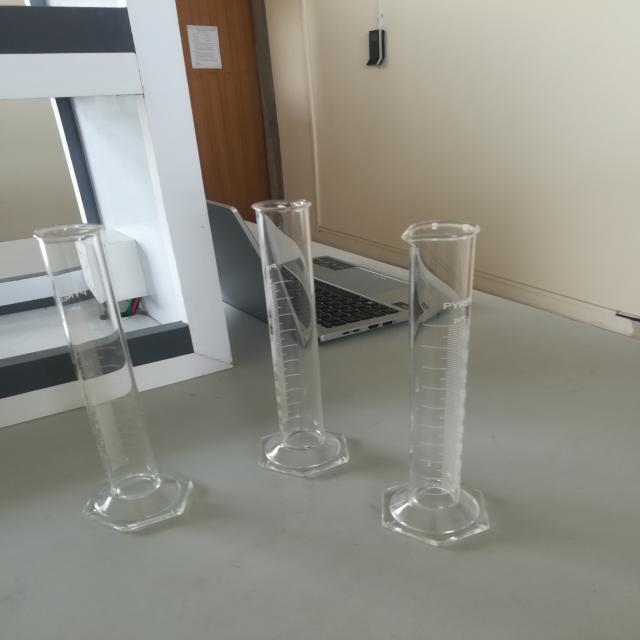Measuring_Cylinder: (11, 202, 218, 558), (370, 191, 514, 574), (233, 165, 368, 507)
